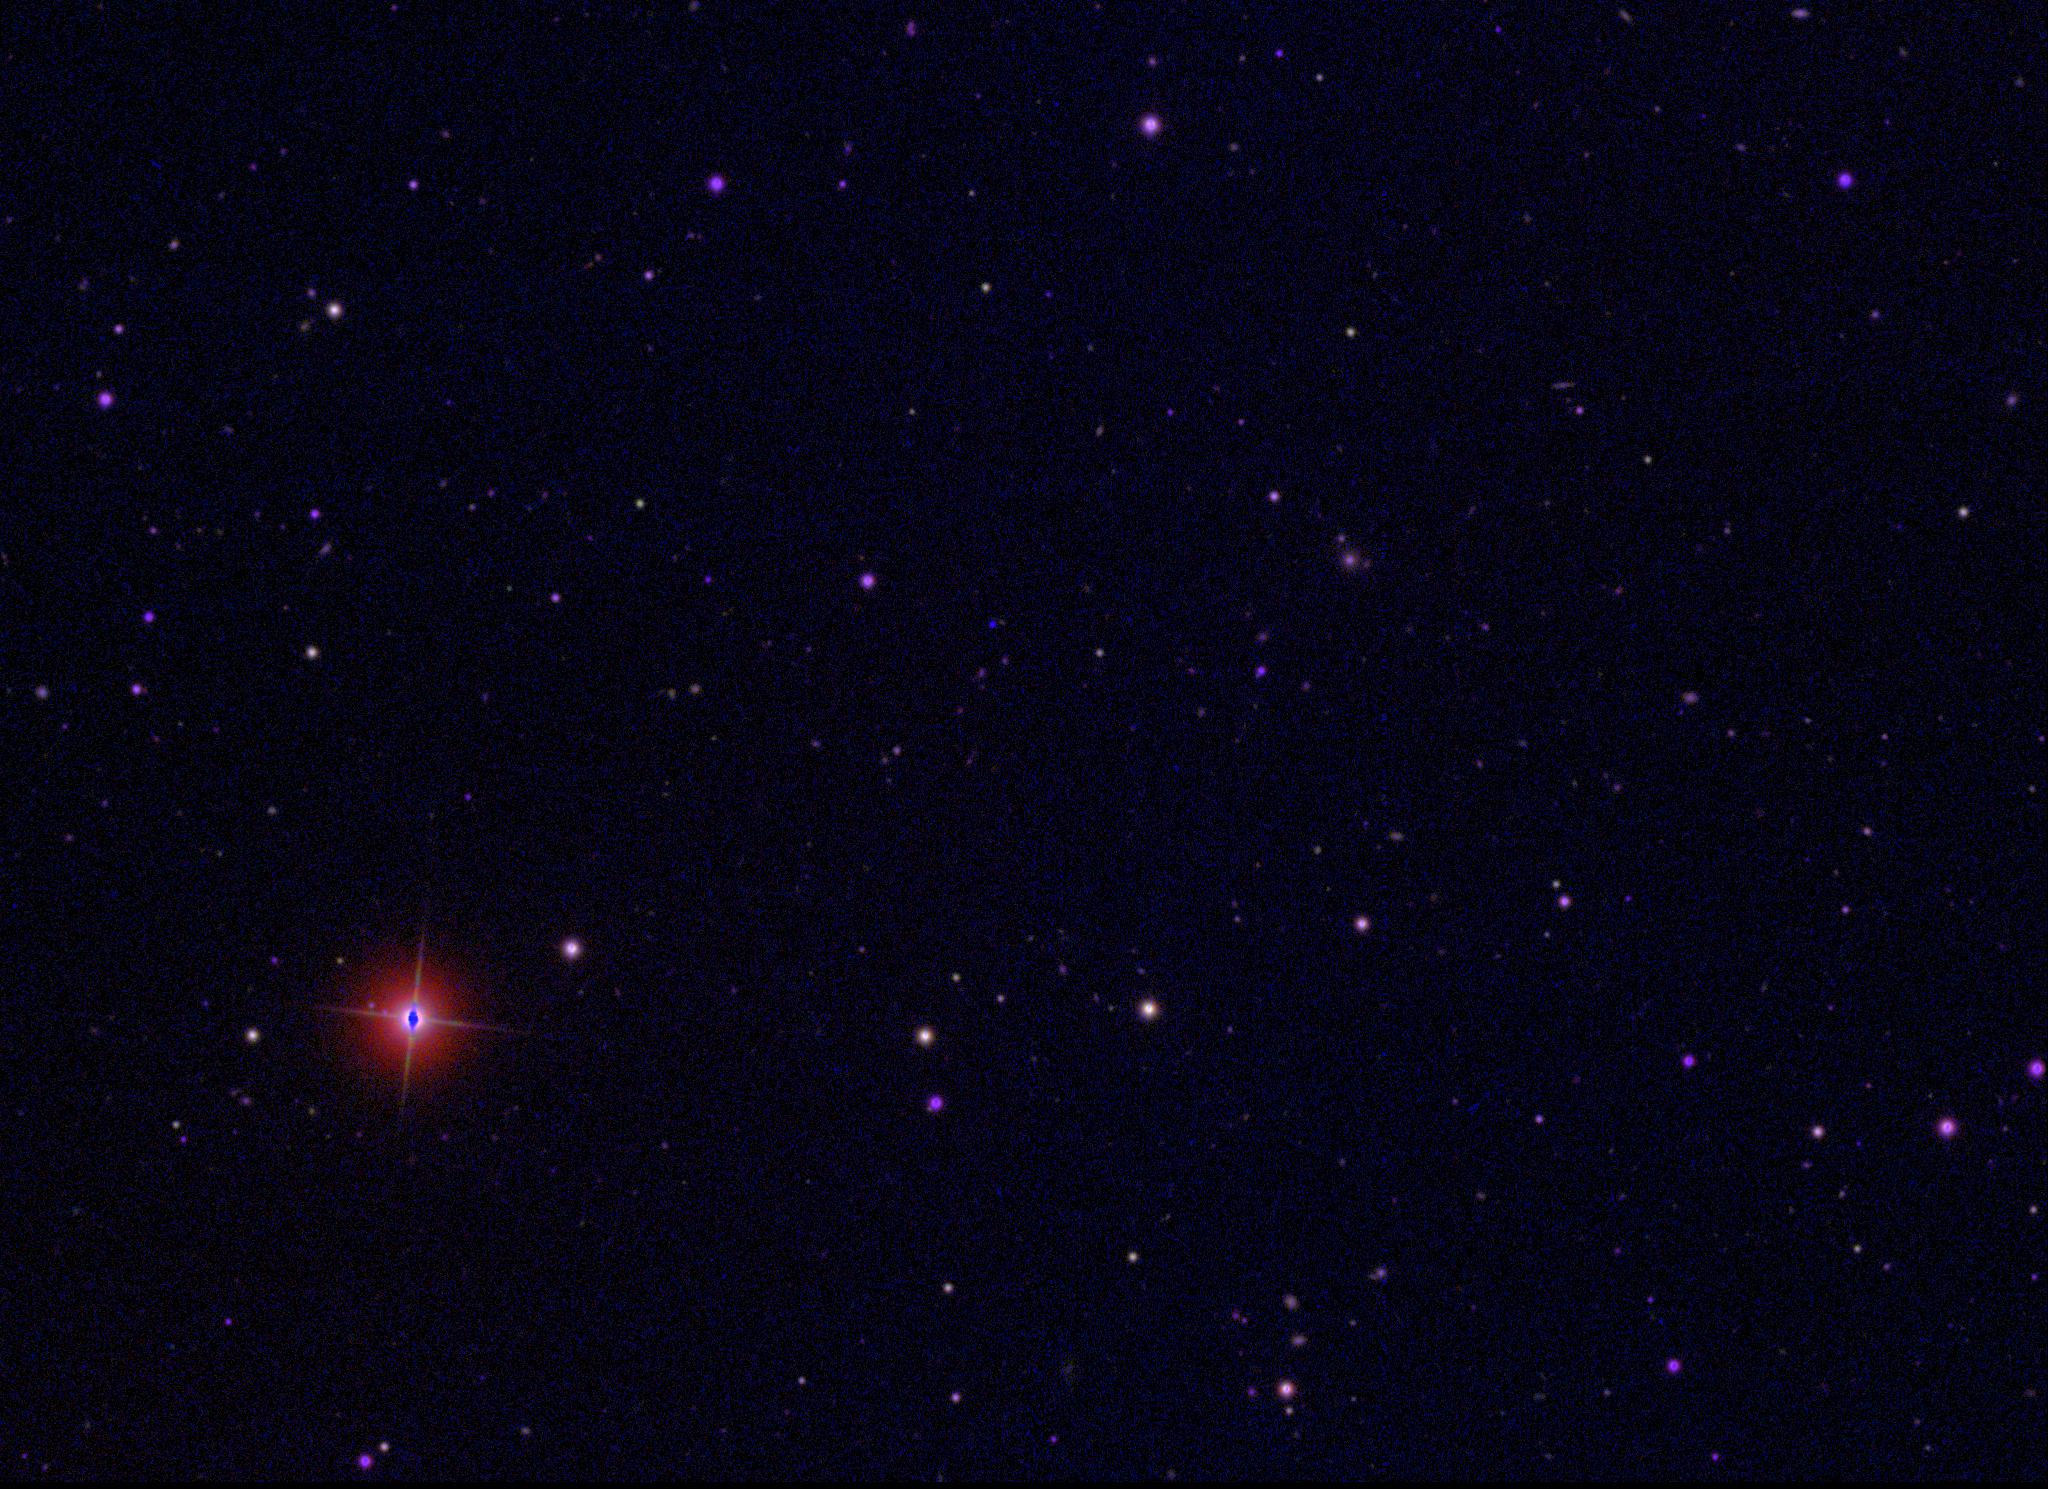L: (983, 617, 997, 632)
